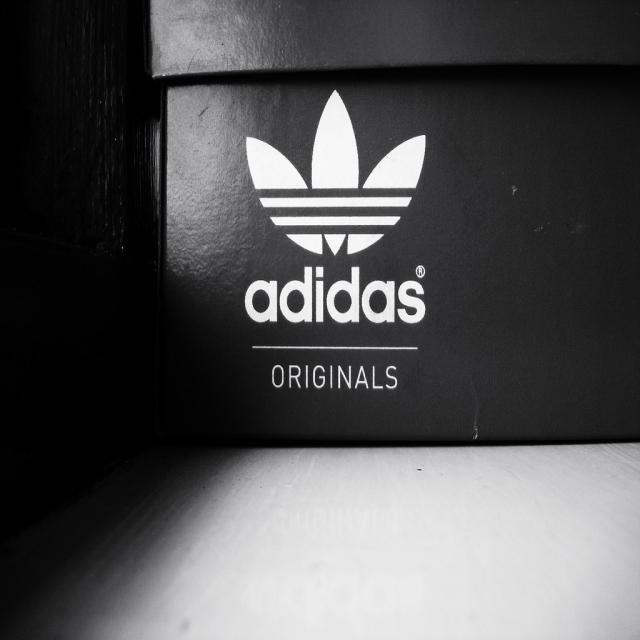adidas: (240, 86, 434, 331)
